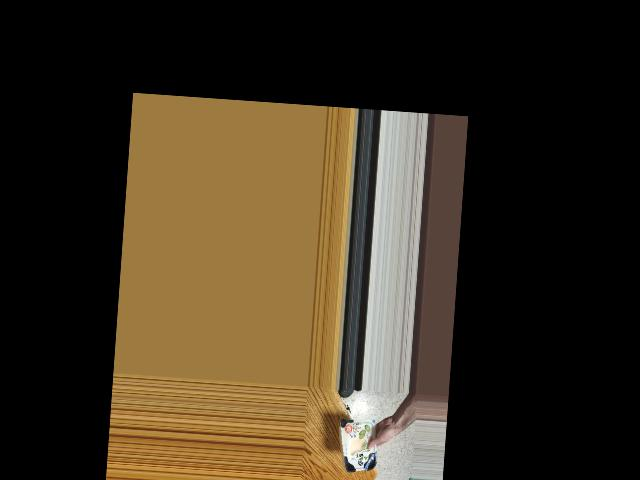cheese: (343, 421, 377, 472)
